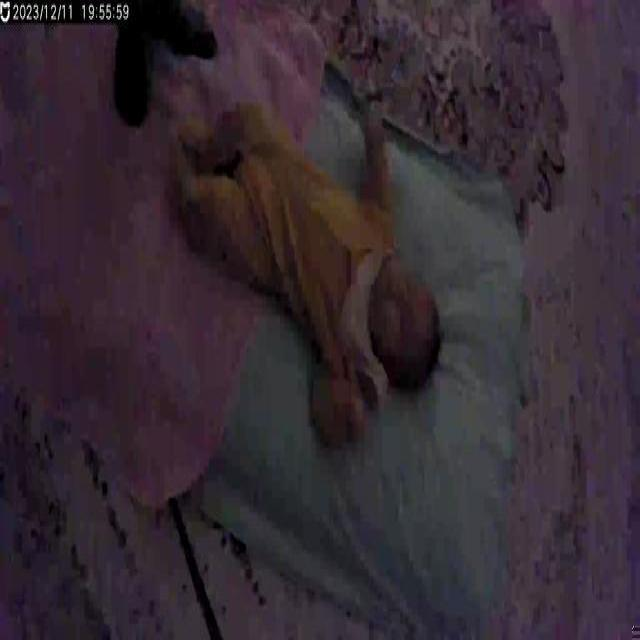baby: (168, 91, 442, 444)
